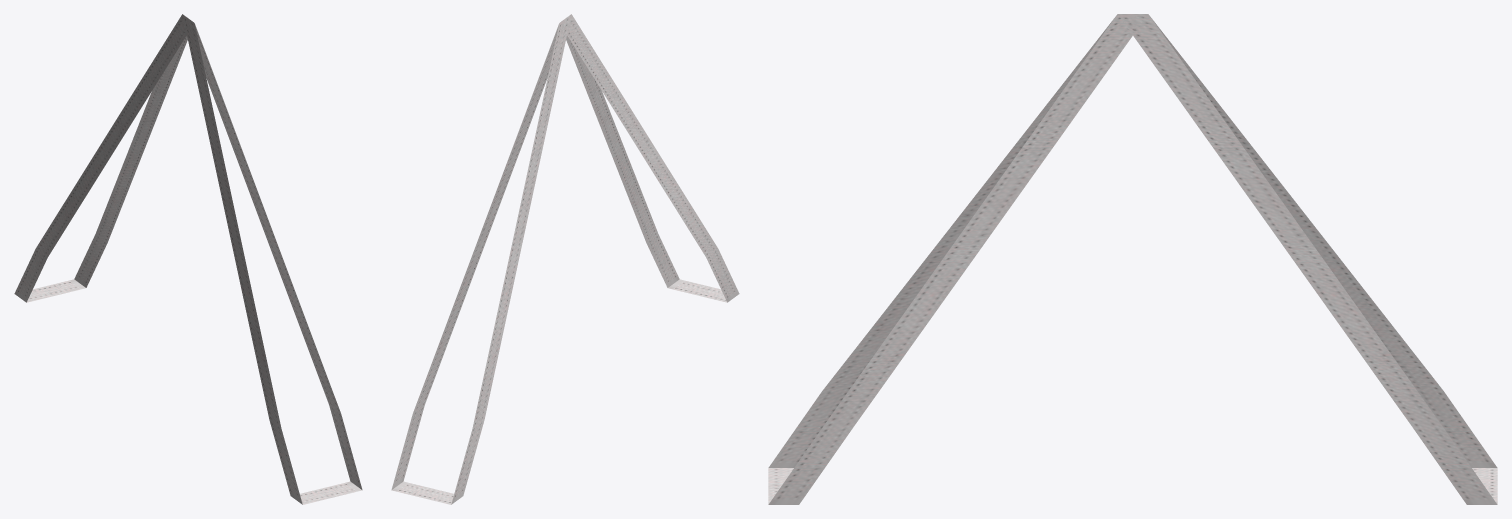
The model's file is eq_SlingbeltHbeam.fbx.
The picture shows the model from 3 angles, left to right: view 1: azimuth 30°, elevation 25°; view 2: azimuth 150°, elevation 25°; view 3: azimuth 270°, elevation 25°; orthographic projection. The views are drawn at different scales.
Visible parts, largest first — view 1: Slingbelt_Hbeam; view 2: Slingbelt_Hbeam; view 3: Slingbelt_Hbeam.
Part boxes in pixels (x1=…): Slingbelt_Hbeam: x1=14, y1=14, x2=362, y2=504; Slingbelt_Hbeam: x1=391, y1=14, x2=739, y2=504; Slingbelt_Hbeam: x1=768, y1=14, x2=1497, y2=504.
Size of the model in its own units: 1 by 5.97 by 8.35.
